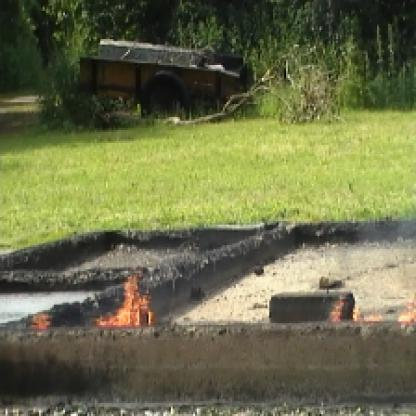Fire: (98, 266, 178, 330), (325, 284, 414, 334), (20, 303, 70, 340)
Smoke: (336, 200, 414, 278)
